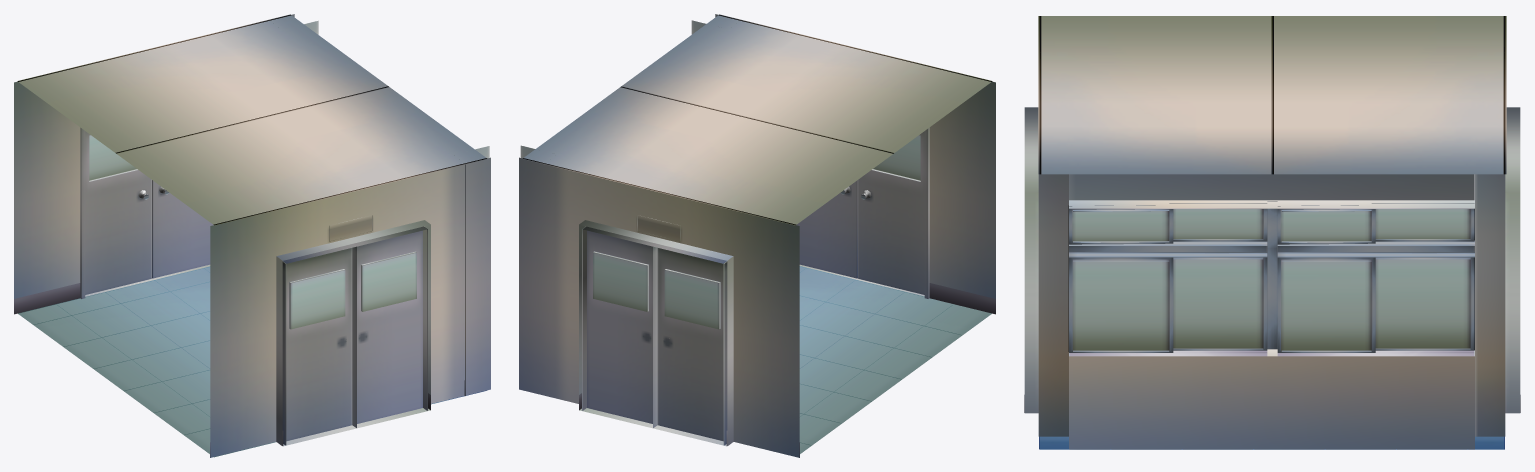
File: JpsStairs_way.FBX
The picture shows the model from 3 angles, left to right: view 1: azimuth 30°, elevation 25°; view 2: azimuth 150°, elevation 25°; view 3: azimuth 270°, elevation 25°; orthographic projection. The views are drawn at different scales.
Parts seen in each view (by area): view 1: Sta_Way_ceiling board, Sta_Way_wall_exitB, Sta_Way_floor, Sta_Way_wall_exitA, Sta_Way_doorL_exitB, Sta_Way_doorR_exitB, Sta_Way_doorL_exitA, Sta_Way_doorR_exitA; view 2: Sta_Way_ceiling board, Sta_Way_wall_exitA, Sta_Way_floor, Sta_Way_wall_exitB, Sta_Way_doorL_exitA, Sta_Way_doorR_exitA, Sta_Way_doorL_exitB, Sta_Way_doorR_exitB; view 3: Sta_Way_wallR, Sta_Way_ceiling board, Sta_Way_wall_exitA, Sta_Way_wall_exitB, Sta_Way_floor.
Boxes of the visible parts, box(x1,y1,x2,y2) form: Sta_Way_ceiling board: box(17, 14, 487, 225); Sta_Way_wall_exitB: box(210, 157, 490, 457); Sta_Way_floor: box(18, 266, 486, 457); Sta_Way_wall_exitA: box(14, 14, 294, 314); Sta_Way_doorL_exitB: box(282, 246, 356, 445); Sta_Way_doorR_exitB: box(357, 227, 427, 423); Sta_Way_doorL_exitA: box(85, 131, 151, 294); Sta_Way_doorR_exitA: box(152, 180, 213, 278); Sta_Way_ceiling board: box(522, 14, 992, 225); Sta_Way_wall_exitA: box(519, 157, 799, 457); Sta_Way_floor: box(799, 266, 991, 453); Sta_Way_wall_exitB: box(715, 14, 995, 314); Sta_Way_doorL_exitA: box(653, 246, 727, 445); Sta_Way_doorR_exitA: box(582, 227, 652, 423); Sta_Way_doorL_exitB: box(858, 131, 924, 294); Sta_Way_doorR_exitB: box(796, 180, 857, 278); Sta_Way_wallR: box(1038, 174, 1505, 448); Sta_Way_ceiling board: box(1038, 16, 1506, 174); Sta_Way_wall_exitA: box(1505, 107, 1520, 413); Sta_Way_wall_exitB: box(1024, 107, 1038, 413); Sta_Way_floor: box(1039, 436, 1504, 449).
Size of the model in its own units: 395 by 300 by 490.
